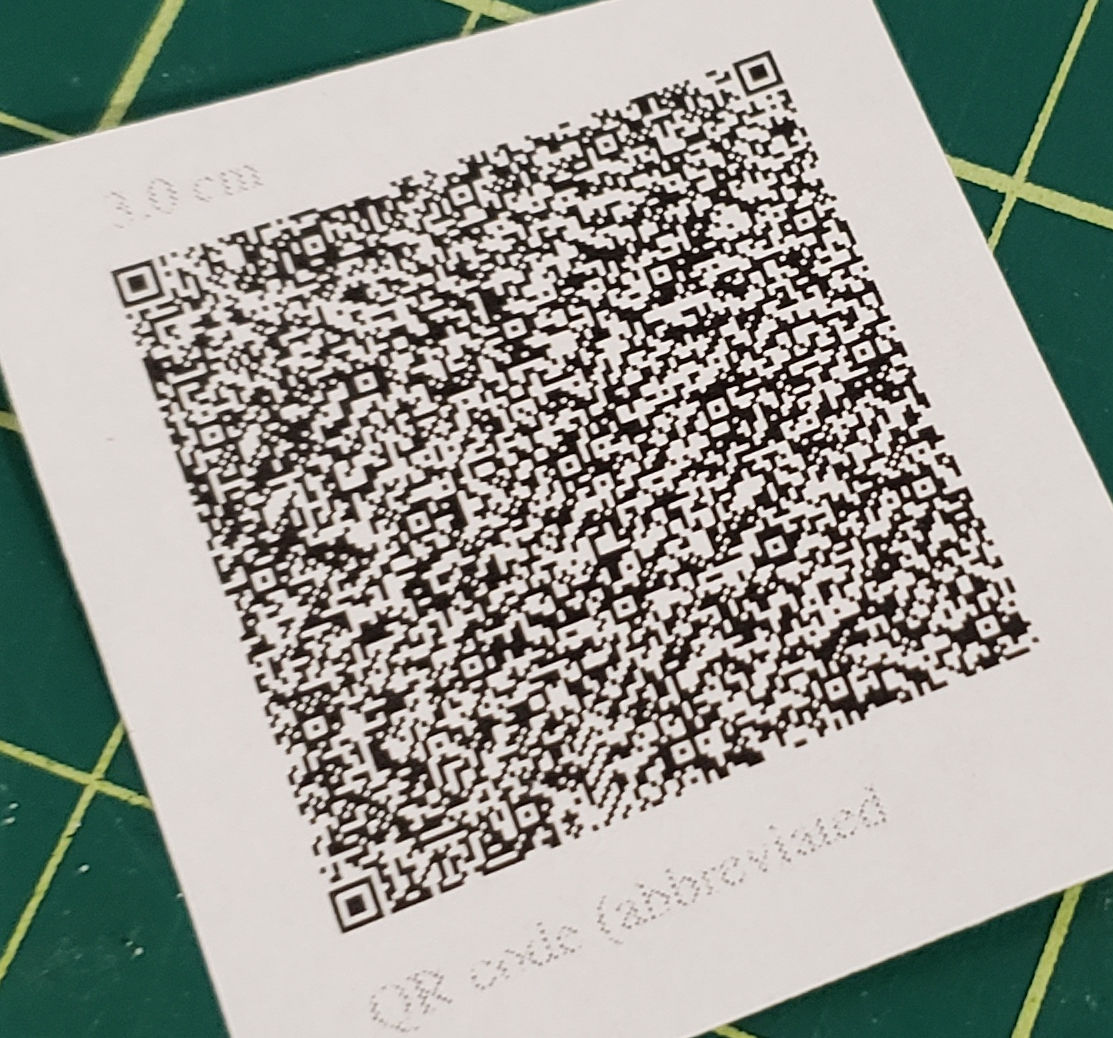QR_CODE: (84, 24, 1070, 951)
